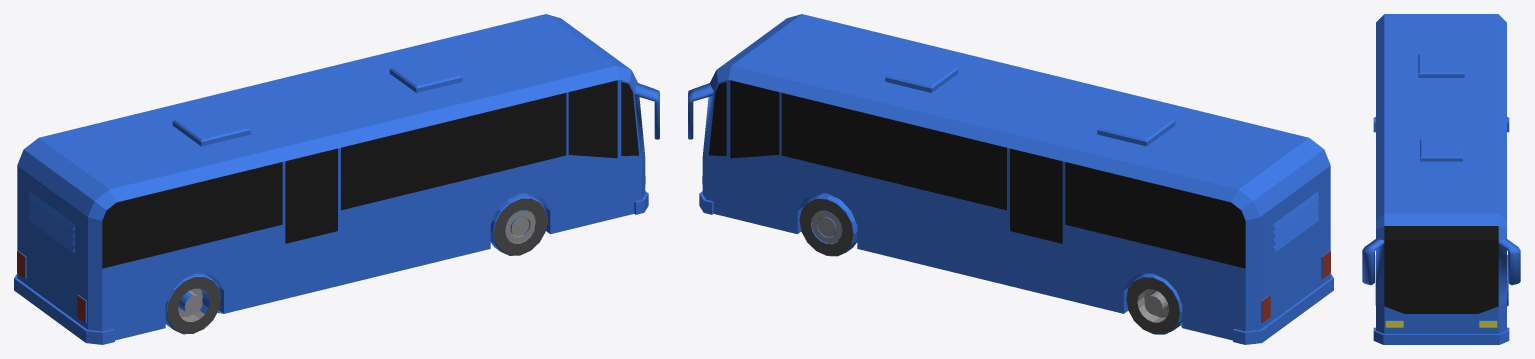
The model's file is bus model.fbx.
3 renders of one model, left to right at view 1: azimuth 30°, elevation 25°; view 2: azimuth 150°, elevation 25°; view 3: azimuth 270°, elevation 25°, orthographic. The views are drawn at different scales.
Visible parts, largest first — view 1: Bus; view 2: Bus; view 3: Bus.
Part boxes in pixels (x1,y1,x2,y2): Bus: [14, 14, 659, 344]; Bus: [688, 14, 1333, 344]; Bus: [1362, 14, 1520, 344].
Bounding box in the file's own units: 806 × 227 × 242.
